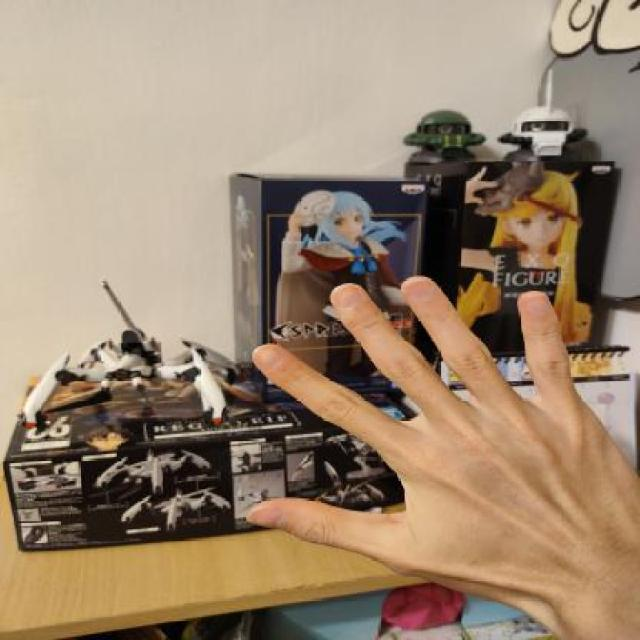bare_hand: (224, 255, 638, 634)
